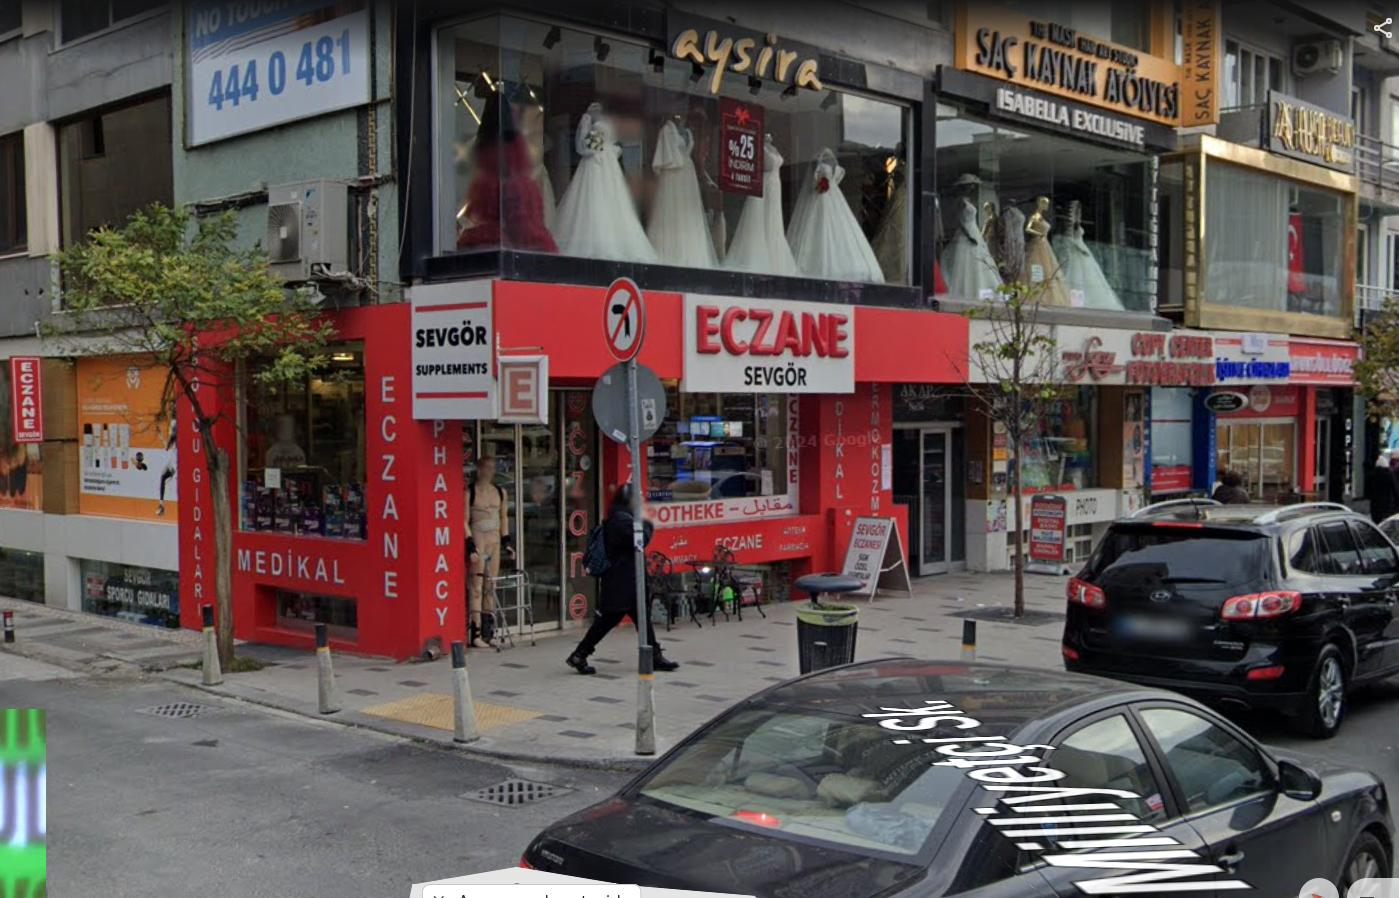leftturnsareforbidden: (602, 277, 646, 355)
